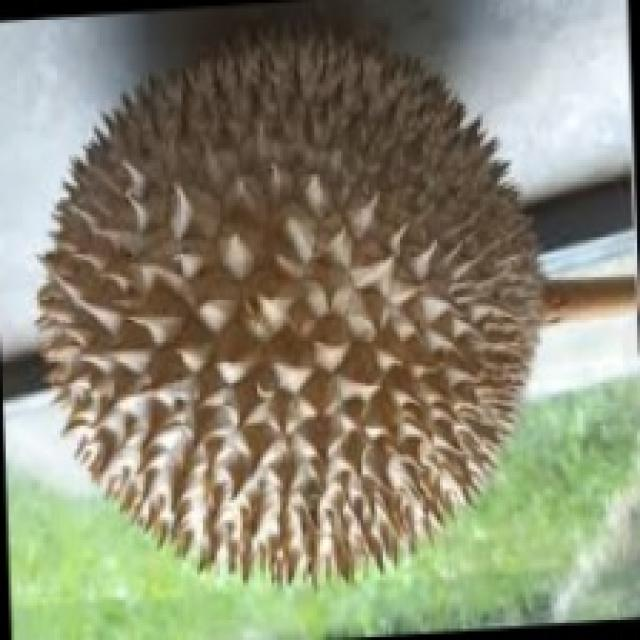d175: (58, 41, 640, 596)
